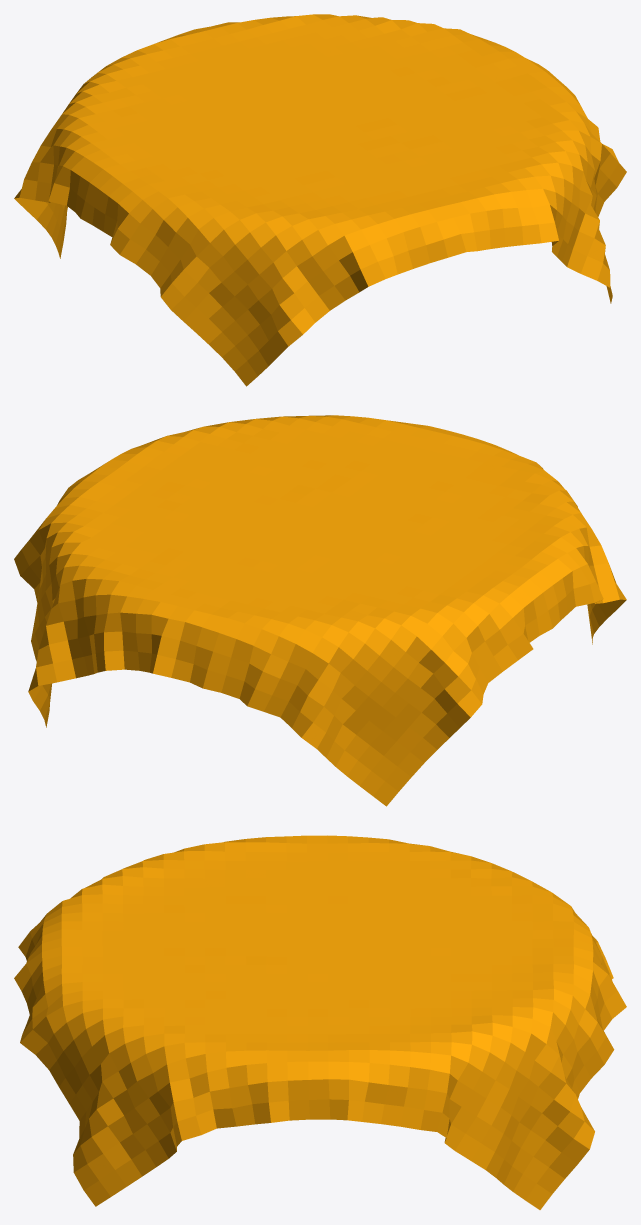
File: queso.glb
3 renders of one model, top to bottom at view 1: azimuth 30°, elevation 25°; view 2: azimuth 150°, elevation 25°; view 3: azimuth 270°, elevation 25°, orthographic. The views are drawn at different scales.
Visible parts, largest first — view 1: Queso; view 2: Queso; view 3: Queso.
Boxes of the visible parts, left/top/right/bottom form: Queso: left=14, top=14, right=626, bottom=386; Queso: left=14, top=415, right=626, bottom=806; Queso: left=14, top=835, right=626, bottom=1209.
Size of the model in its own units: 1.85 by 0.6218 by 1.87.
